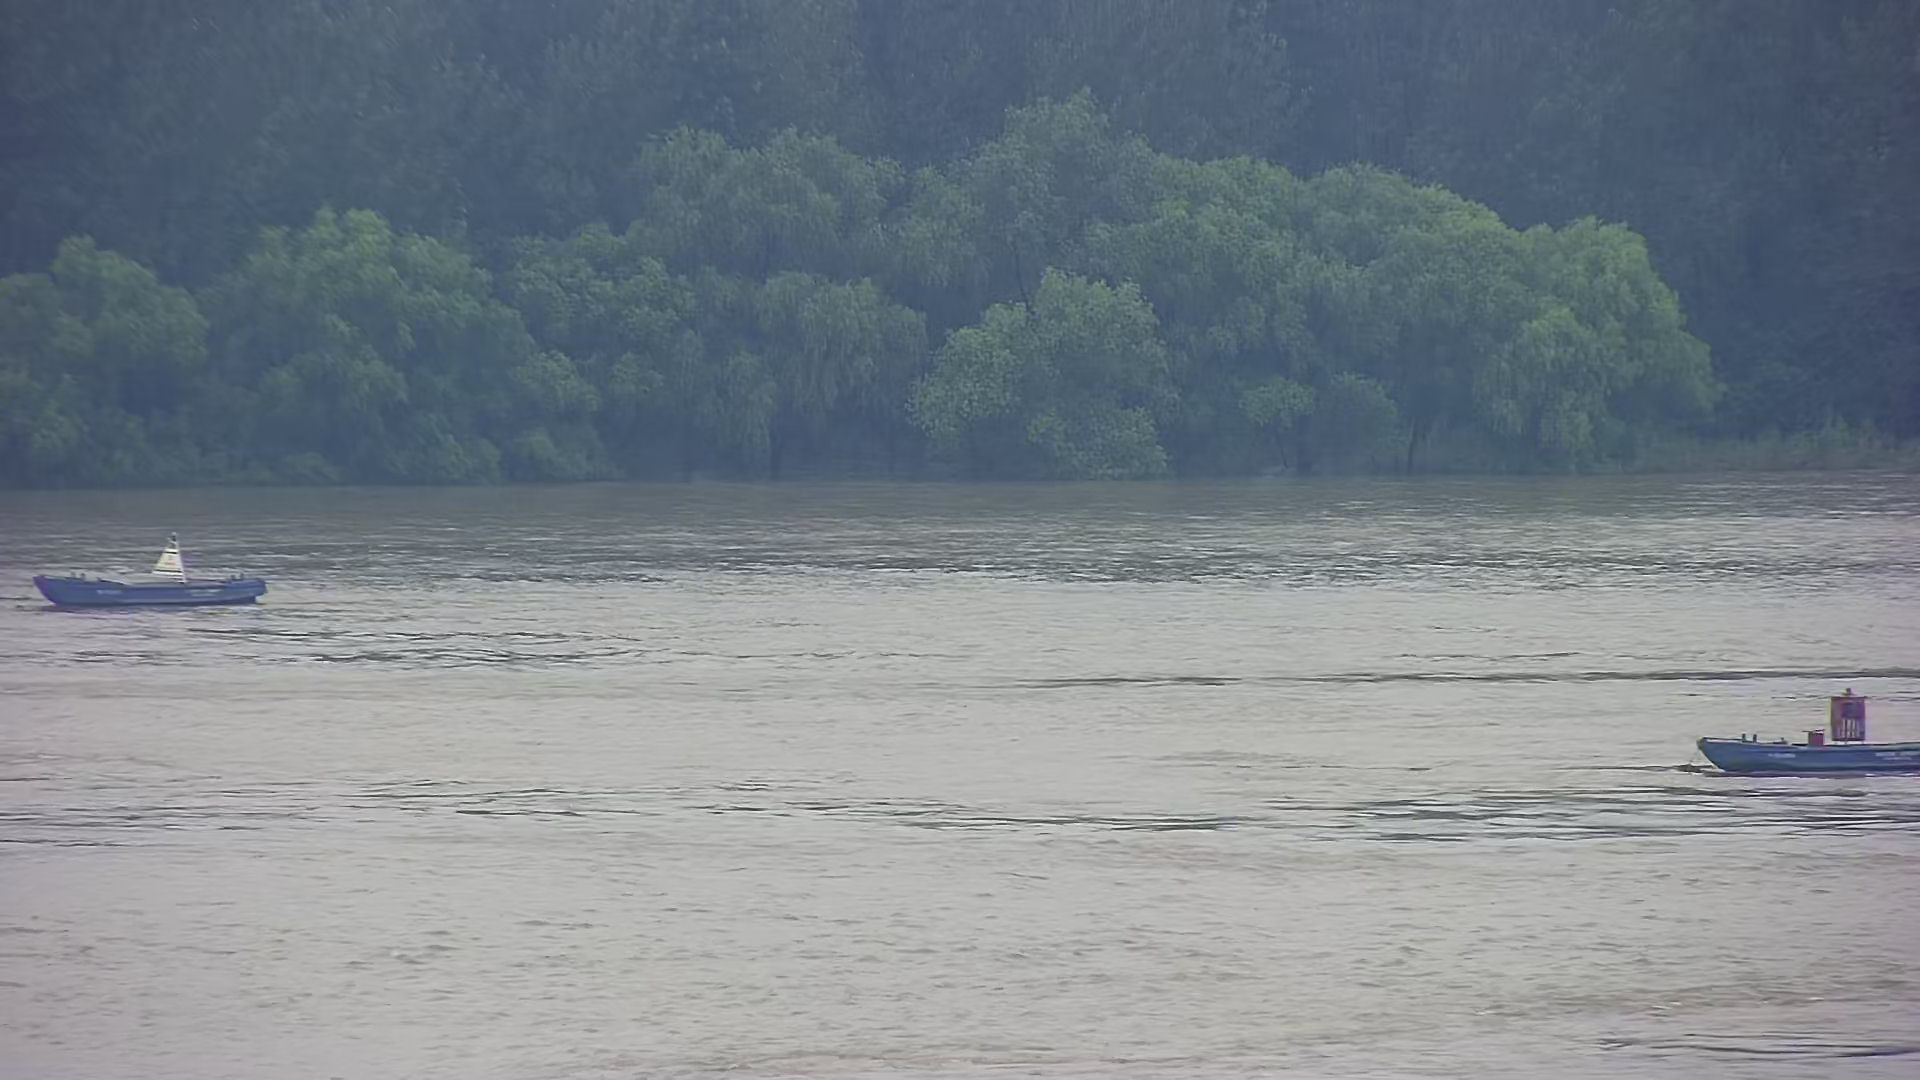boat: (1695, 686, 1920, 771), (32, 531, 273, 609)
